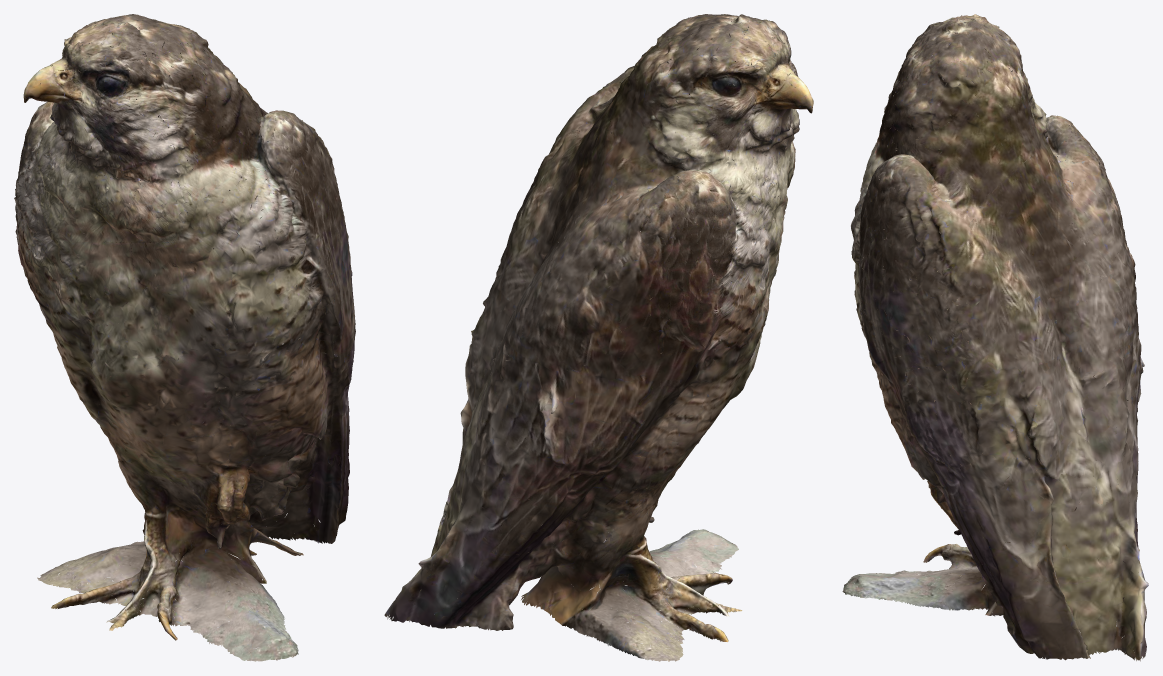
The model's file is falcon-touch.glb.
The picture shows the model from 3 angles, left to right: view 1: azimuth 30°, elevation 25°; view 2: azimuth 150°, elevation 25°; view 3: azimuth 270°, elevation 25°; orthographic projection. The views are drawn at different scales.
Parts seen in each view (by area): view 1: Object_2, Object_9; view 2: Object_2, Object_9; view 3: Object_9, Object_2.
Part boxes in pixels (<box>): Object_2: <box>15,14,355,652</box>; Object_9: <box>14,14,355,661</box>; Object_2: <box>389,14,812,660</box>; Object_9: <box>384,14,813,661</box>; Object_9: <box>842,15,1148,661</box>; Object_2: <box>852,14,1146,660</box>.
Bounding box in the file's own units: 0.6034 × 1 × 0.5232.
Materials: 2 (2 with a texture image).
